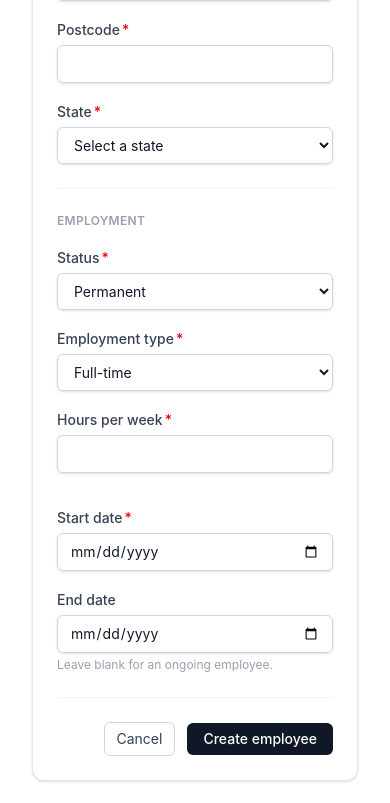
Test: EmployeeForm › clears a field error once the user edits that field
(page scrolled)
Click the button "Create employee": coordinates (260, 739) x1=187 y1=723 x2=333 y2=755
(page scrolled)
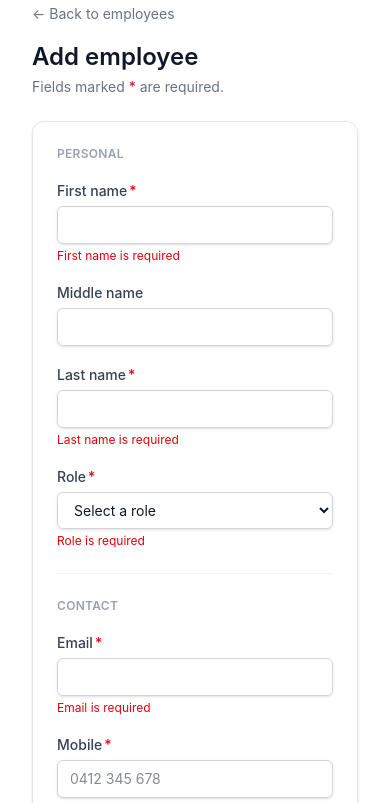
Expected: the text "First name is required" is shown, x1=57 y1=248 x2=180 y2=263
In the field labelled "First name*": coordinates (195, 225) x1=57 y1=206 x2=333 y2=244, type "J"
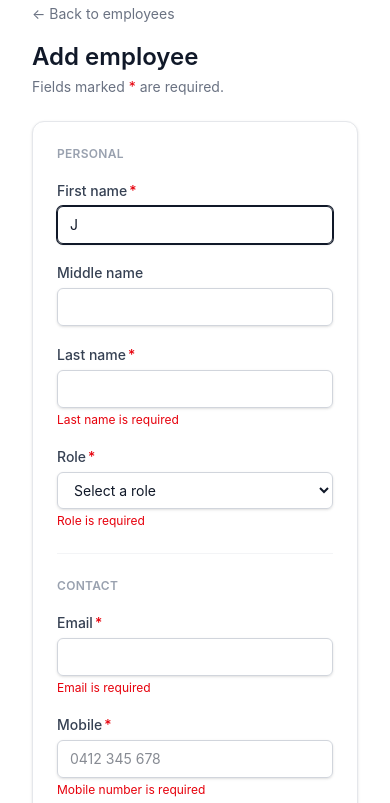
Expected: the text "First name is required" is gone
